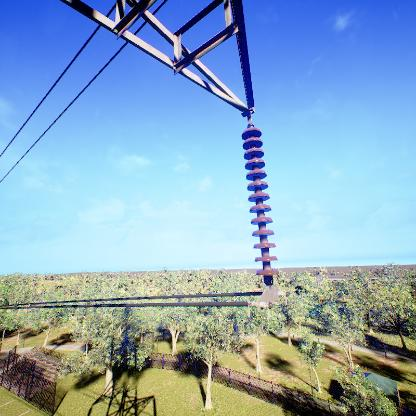insulator: (240, 124, 281, 285)
